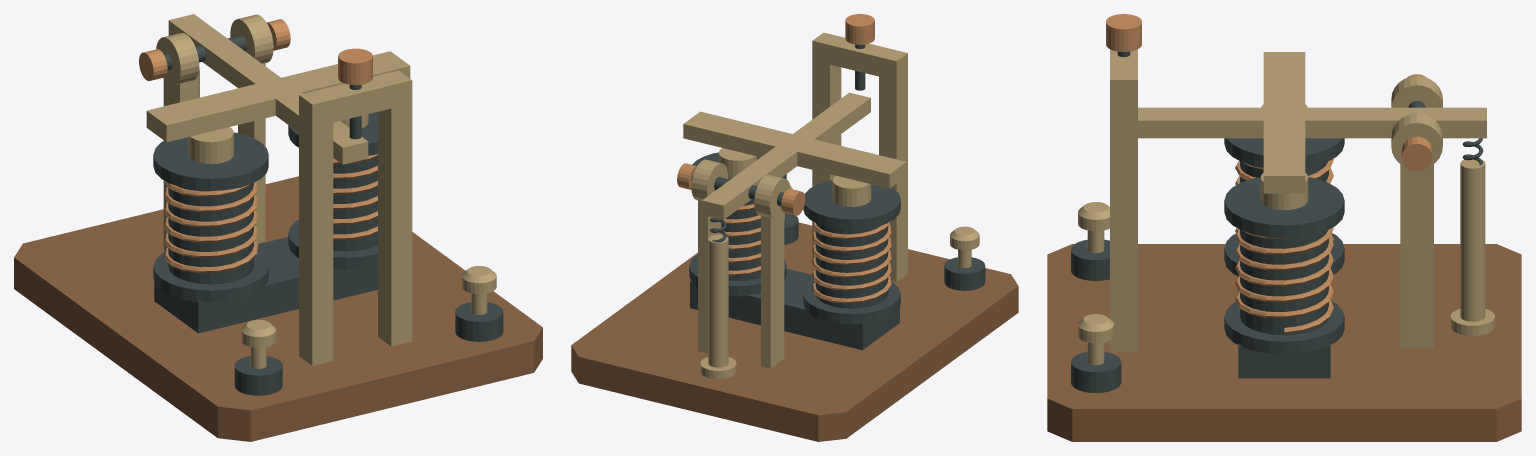
3 views of the same model, side by side, from view 1: azimuth 30°, elevation 25°; view 2: azimuth 150°, elevation 25°; view 3: azimuth 270°, elevation 25° (orthographic). The views are drawn at different scales.
Visible parts, largest first — view 1: WholeChamferedWoodBase, WholeFrontStopPortal, WholeFlangedBoredBobbin0, WholeTShapedArmatureLever, WholeLowCommonIronYoke, WholeFlangedBoredBobbin1, WholeContinuousCoilWinding0, WholeContinuousCoilWinding1, WholeTerminalInsulator0, WholeTerminalInsulator1, WholeBoredPivotBearing0, WholeVerticalPoleCore0 (+8 smaller); view 2: WholeChamferedWoodBase, WholeTShapedArmatureLever, WholeFlangedBoredBobbin0, WholeFrontStopPortal, WholeLowCommonIronYoke, WholePivotStandard0, WholeRearSpringPost, WholeContinuousCoilWinding0, WholeFlangedBoredBobbin1, WholePivotStandard1, WholeTerminalInsulator0, WholeBoredPivotBearing0 (+7 smaller); view 3: WholeChamferedWoodBase, WholeTShapedArmatureLever, WholeFlangedBoredBobbin1, WholeFrontStopPortal, WholePivotStandard1, WholeRearSpringPost, WholeContinuousCoilWinding1, WholeFlangedBoredBobbin0, WholeLowCommonIronYoke, WholeTerminalInsulator1, WholeBoredPivotBearing1, WholeBoredPivotBearing0 (+7 smaller).
Boxes of the visible parts, x1,y1,x2,y2 form: WholeChamferedWoodBase: (14, 176, 542, 441); WholeFrontStopPortal: (299, 70, 412, 365); WholeFlangedBoredBobbin0: (153, 132, 268, 302); WholeTShapedArmatureLever: (146, 14, 410, 164); WholeLowCommonIronYoke: (154, 237, 377, 333); WholeFlangedBoredBobbin1: (288, 112, 377, 269); WholeContinuousCoilWinding0: (164, 181, 258, 272); WholeContinuousCoilWinding1: (333, 154, 377, 240); WholeTerminalInsulator0: (234, 356, 282, 395); WholeTerminalInsulator1: (455, 302, 503, 341); WholeBoredPivotBearing0: (156, 33, 199, 85); WholeVerticalPoleCore0: (188, 127, 233, 163); WholeChamferedWoodBase: (571, 222, 1018, 441); WholeTShapedArmatureLever: (683, 92, 906, 219); WholeFlangedBoredBobbin0: (803, 180, 900, 324); WholeFrontStopPortal: (812, 32, 907, 282); WholeLowCommonIronYoke: (690, 268, 899, 350); WholePivotStandard0: (761, 214, 784, 368); WholeRearSpringPost: (700, 234, 736, 379); WholeContinuousCoilWinding0: (812, 221, 891, 303); WholeFlangedBoredBobbin1: (689, 152, 786, 296); WholePivotStandard1: (698, 200, 721, 353); WholeTerminalInsulator0: (944, 257, 985, 290); WholeBoredPivotBearing0: (754, 175, 790, 219); WholeChamferedWoodBase: (1047, 244, 1521, 441); WholeTShapedArmatureLever: (1138, 52, 1486, 193); WholeFlangedBoredBobbin1: (1224, 177, 1344, 354); WholeFrontStopPortal: (1110, 49, 1137, 351); WholePivotStandard1: (1400, 164, 1433, 348); WholeRearSpringPost: (1450, 159, 1495, 335); WholeContinuousCoilWinding1: (1235, 227, 1333, 333); WholeFlangedBoredBobbin0: (1224, 138, 1344, 275); WholeLowCommonIronYoke: (1238, 275, 1330, 378); WholeTerminalInsulator1: (1071, 352, 1121, 392); WholeBoredPivotBearing1: (1391, 113, 1442, 167); WholeBoredPivotBearing0: (1391, 76, 1442, 107).
Size of the model in its own units: 0.28 by 0.267 by 0.34.
